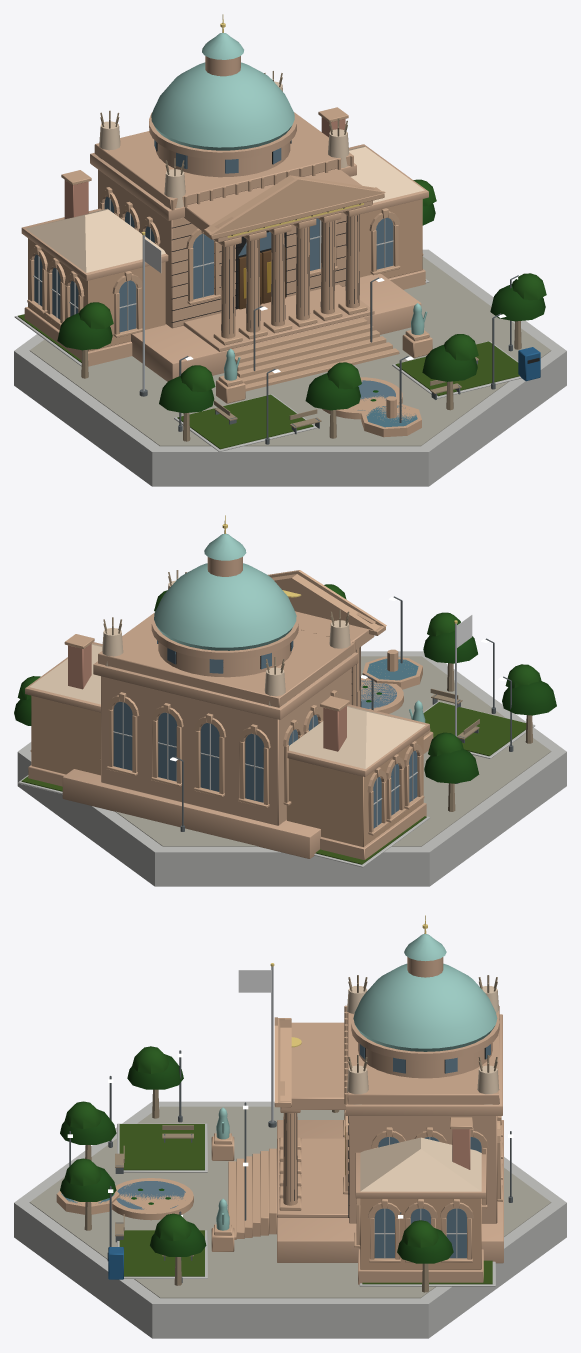
File: library_africa.glb
3 views of the same model, one above another, from view 1: azimuth 30°, elevation 25°; view 2: azimuth 150°, elevation 25°; view 3: azimuth 270°, elevation 25° (orthographic).
Visible parts, largest first — view 1: stone, wall_concrete, pavers, copper, leaf, plaster, glass, turf, dark, wood, steel_dark, brick (+2 smaller); view 2: stone, wall_concrete, copper, pavers, glass, plaster, leaf, turf, brick, wood, steel_dark; view 3: stone, wall_concrete, pavers, copper, leaf, plaster, turf, glass, wood, steel_dark, banner, brick (+2 smaller).
Part boxes in pixels (<box>): stone: <box>21,56,432,437</box>; wall_concrete: <box>14,198,566,486</box>; pavers: <box>29,256,551,446</box>; copper: <box>151,33,427,380</box>; leaf: <box>57,179,546,413</box>; plaster: <box>26,81,424,272</box>; glass: <box>34,140,417,427</box>; turf: <box>18,280,519,449</box>; dark: <box>156,141,539,363</box>; wood: <box>81,71,521,441</box>; steel_dark: <box>139,275,518,444</box>; brick: <box>64,117,345,218</box>; stone: <box>25,557,433,859</box>; wall_concrete: <box>17,651,566,886</box>; copper: <box>154,533,425,722</box>; pavers: <box>115,656,551,846</box>; glass: <box>113,640,418,828</box>; plaster: <box>29,580,425,768</box>; leaf: <box>14,584,556,783</box>; turf: <box>21,702,526,864</box>; brick: <box>68,643,346,751</box>; wood: <box>103,570,532,811</box>; steel_dark: <box>175,596,513,831</box>; stone: <box>56,957,503,1284</box>; wall_concrete: <box>14,1101,566,1338</box>; pavers: <box>29,1106,551,1298</box>; copper: <box>216,934,497,1230</box>; leaf: <box>60,1046,453,1263</box>; plaster: <box>347,986,499,1191</box>; turf: <box>119,1124,492,1284</box>; glass: <box>61,1044,490,1258</box>; wood: <box>84,975,497,1292</box>; steel_dark: <box>69,1050,512,1282</box>; banner: <box>238,970,271,992</box>; brick: <box>452,1129,470,1169</box>.
Bounding box in the file's own units: 21.41 × 15.8 × 24.6.
